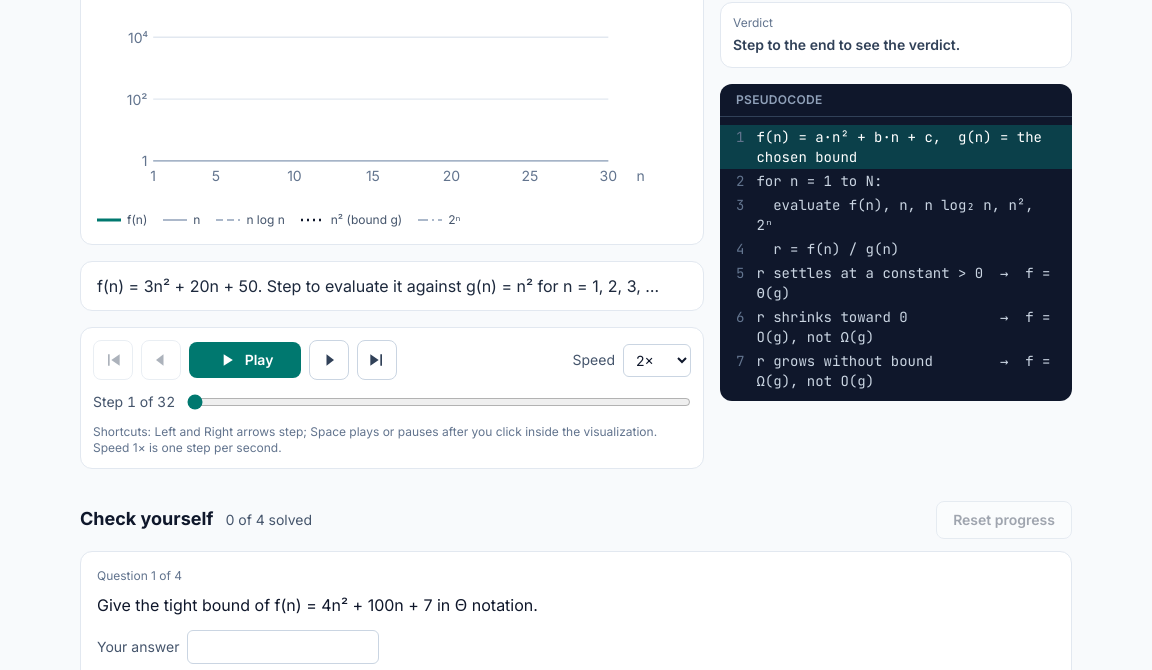
Test: asymptotic notation lesson › ends with a Θ verdict and its witness constants
(page scrolled)
Step 1. Click the button named "Last step" → point(377, 360), box [357, 340, 397, 380]
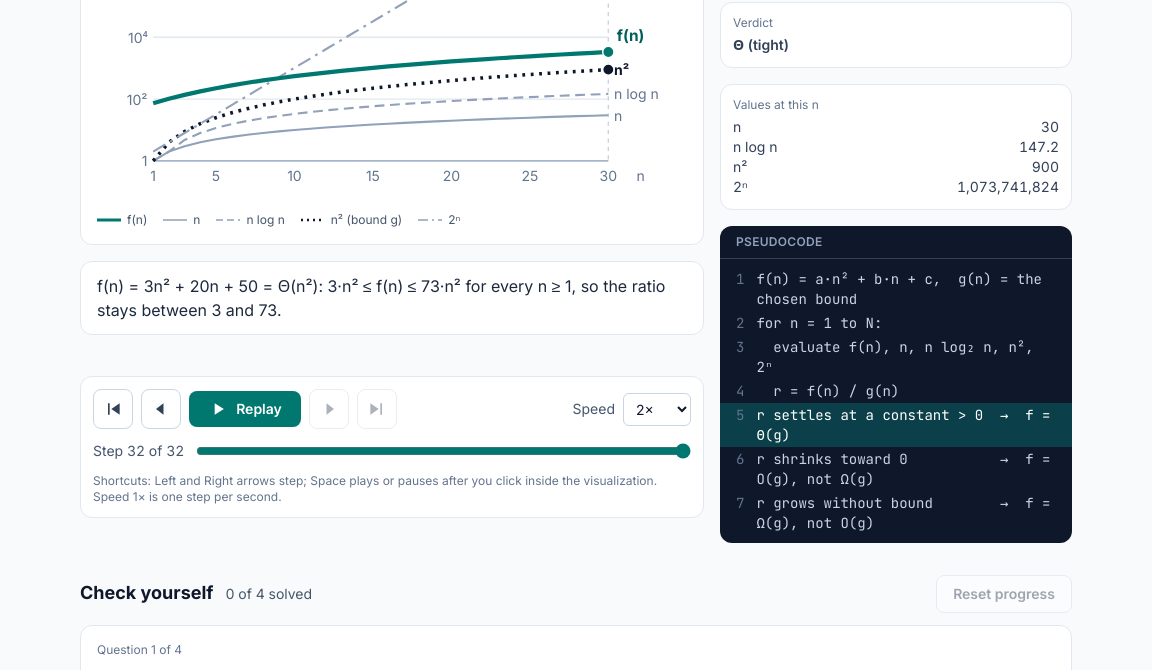
Expected: the text "= Θ(n²): 3·n² ≤ f(n) ≤ 73·n² for every n ≥ 1" is shown, [97, 276, 665, 320]
Expected: the text "Θ (tight)" is shown, [733, 36, 789, 53]
